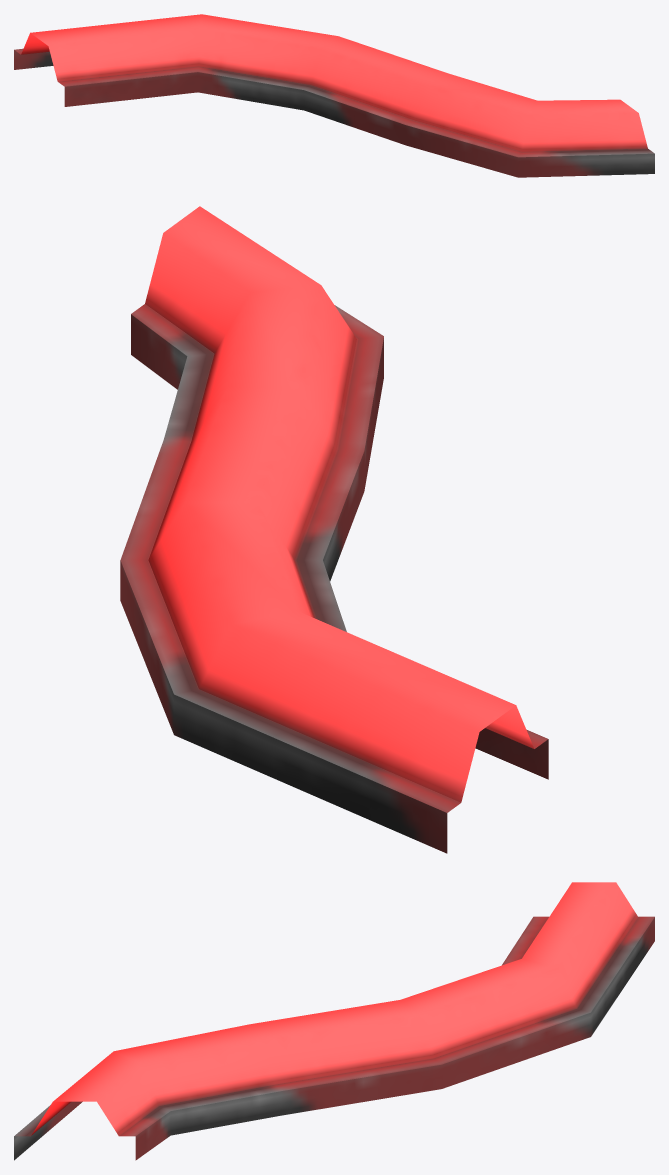
File: Way_SR.fbx
The picture shows the model from 3 angles, top to bottom: view 1: azimuth 30°, elevation 25°; view 2: azimuth 150°, elevation 25°; view 3: azimuth 270°, elevation 25°; orthographic projection. The views are drawn at different scales.
Visible parts, largest first — view 1: Way_SR; view 2: Way_SR; view 3: Way_SR.
Part boxes in pixels (x1,y1,x2,y2): Way_SR: (14,14,654,177); Way_SR: (120,206,548,853); Way_SR: (14,882,654,1160).
Bounding box in the file's own units: 1 × 0.1253 × 1.23.
